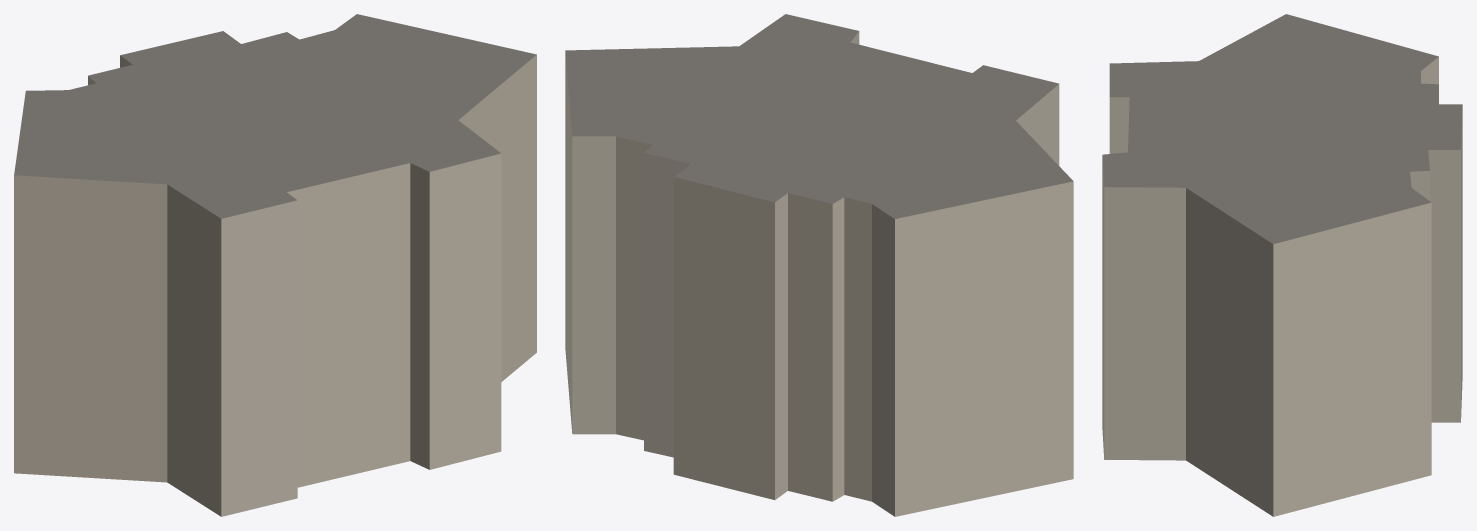
3 views of the same model, side by side, from view 1: azimuth 30°, elevation 25°; view 2: azimuth 150°, elevation 25°; view 3: azimuth 270°, elevation 25° (orthographic). The views are drawn at different scales.
Visible parts, largest first — view 1: HP-w299010065; view 2: HP-w299010065; view 3: HP-w299010065.
Part boxes in pixels (x1,y1,x2,y2): HP-w299010065: (14, 14, 536, 516); HP-w299010065: (565, 14, 1073, 516); HP-w299010065: (1102, 14, 1462, 516).
Bounding box in the file's own units: 32.6 × 18 × 21.55.
